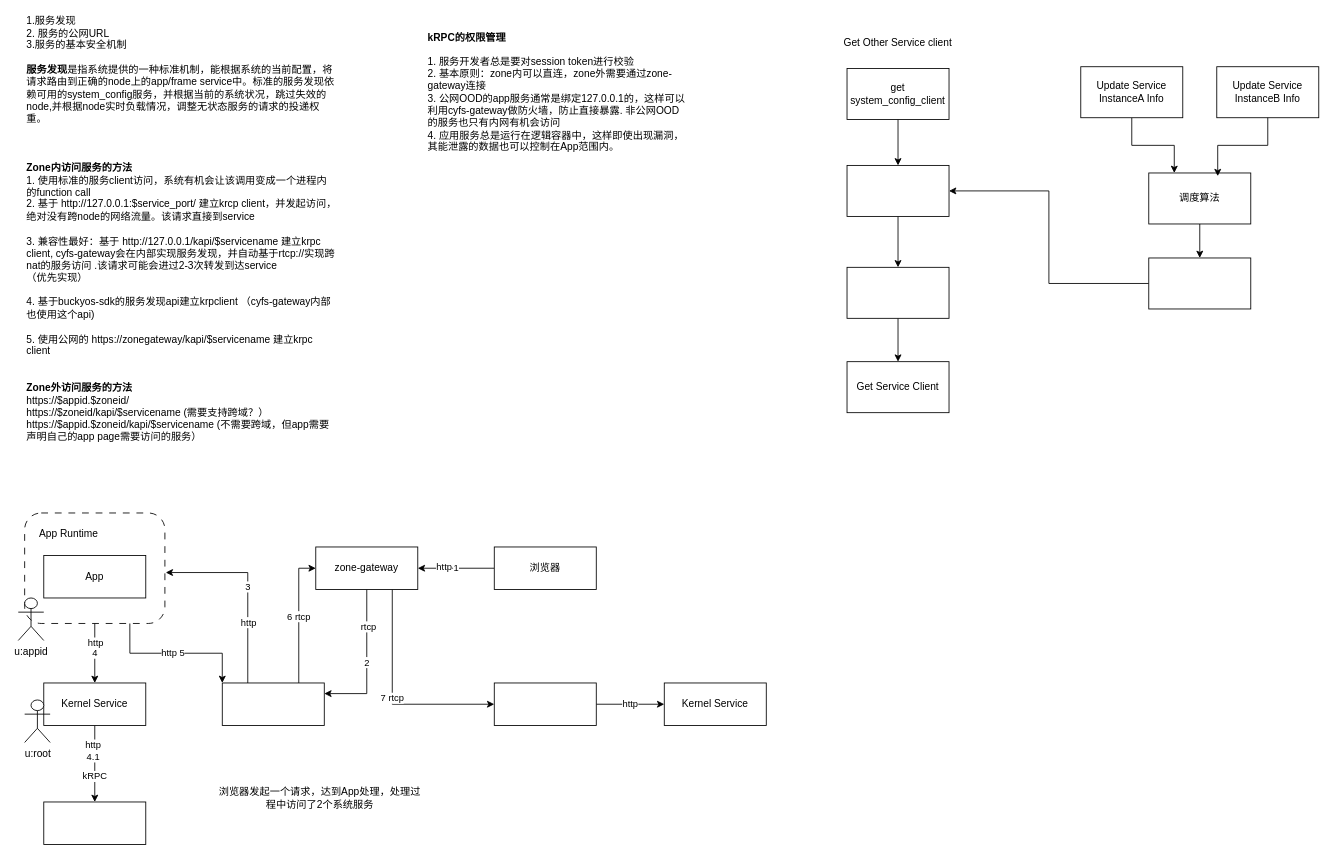
Image size: 1334x859. Some labels were removed from this diagram. Here are the shapes that lost their labels. From the top down, the box of each, then its label:
(846, 165, 949, 216): Get Service Info (auto cache by system_config_client)
(846, 266, 949, 318): Select Service Instance
(1148, 257, 1251, 309): Update Service Info
(221, 682, 324, 725): OOD1 cyfs-gateway
(493, 682, 596, 725): OOD2 cyfs-gateway
(43, 801, 146, 844): Kernel Service2
